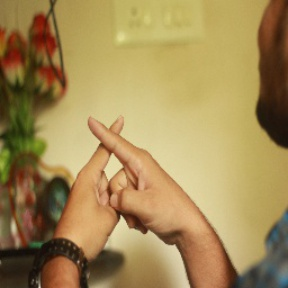X: (49, 97, 182, 221)
